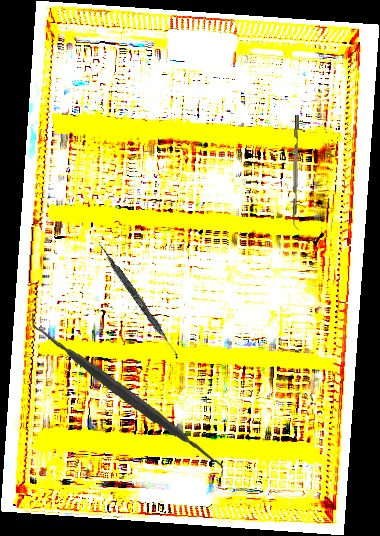Chopper: (290, 114, 305, 231)
Spatula Surgical: (30, 303, 224, 487), (95, 242, 183, 360)
